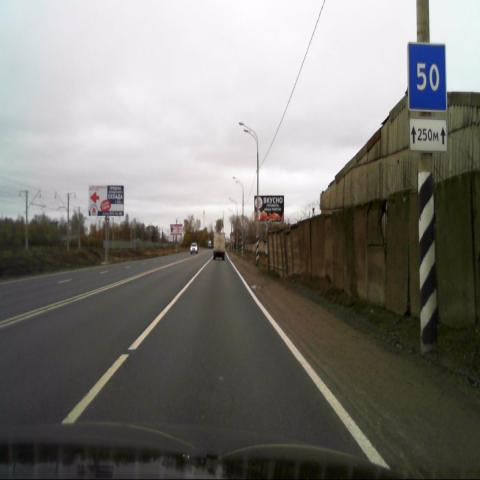6_2: (407, 42, 445, 110)
8_2_1: (410, 116, 447, 152)
